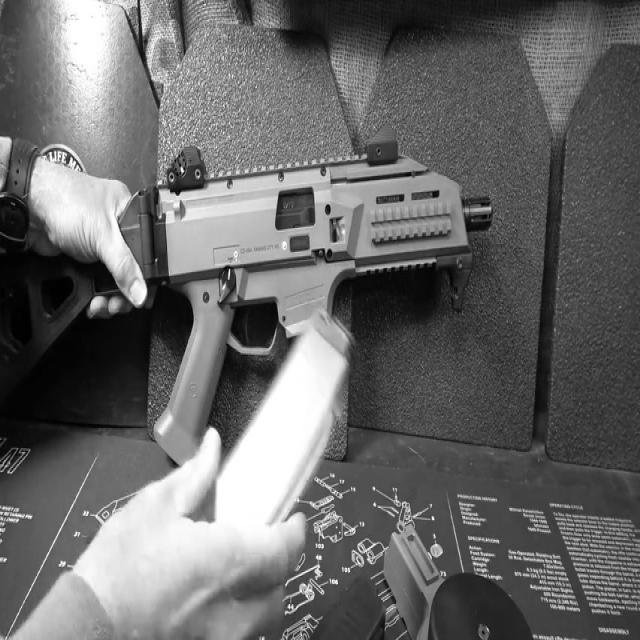Sub-machine-gun: (88, 167, 404, 511)
